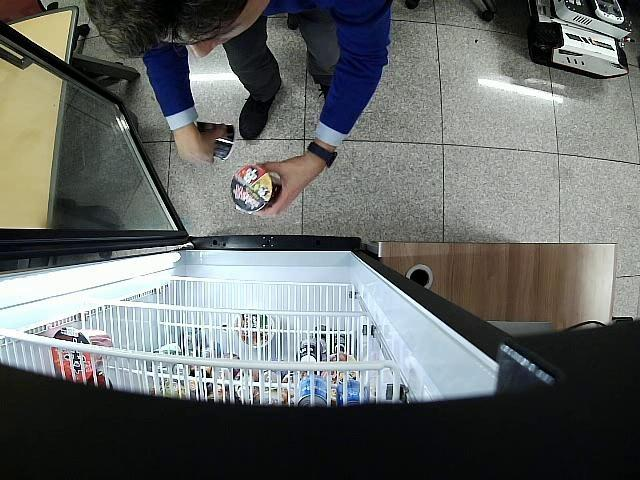08_buldak_S: (231, 164, 283, 212), (197, 122, 234, 159)
